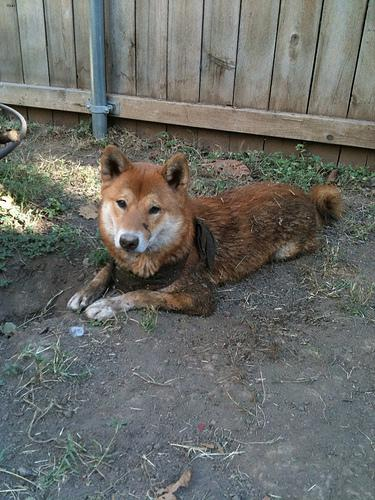dog-shiba_inu: (97, 143, 187, 264)
